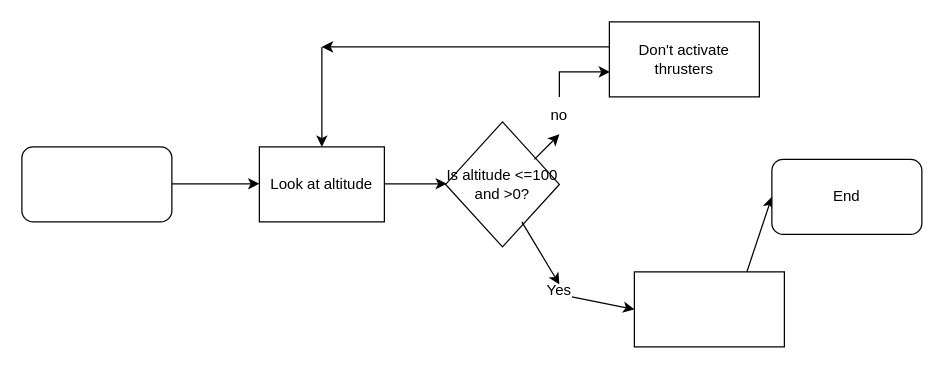
The diagram is 944 pixels wide and 369 high, and some of its shapes have lost their labels. Each missing label, with the box of its shape:
Activate thrusters: (633, 271, 784, 347)
Start: (21, 146, 172, 222)
